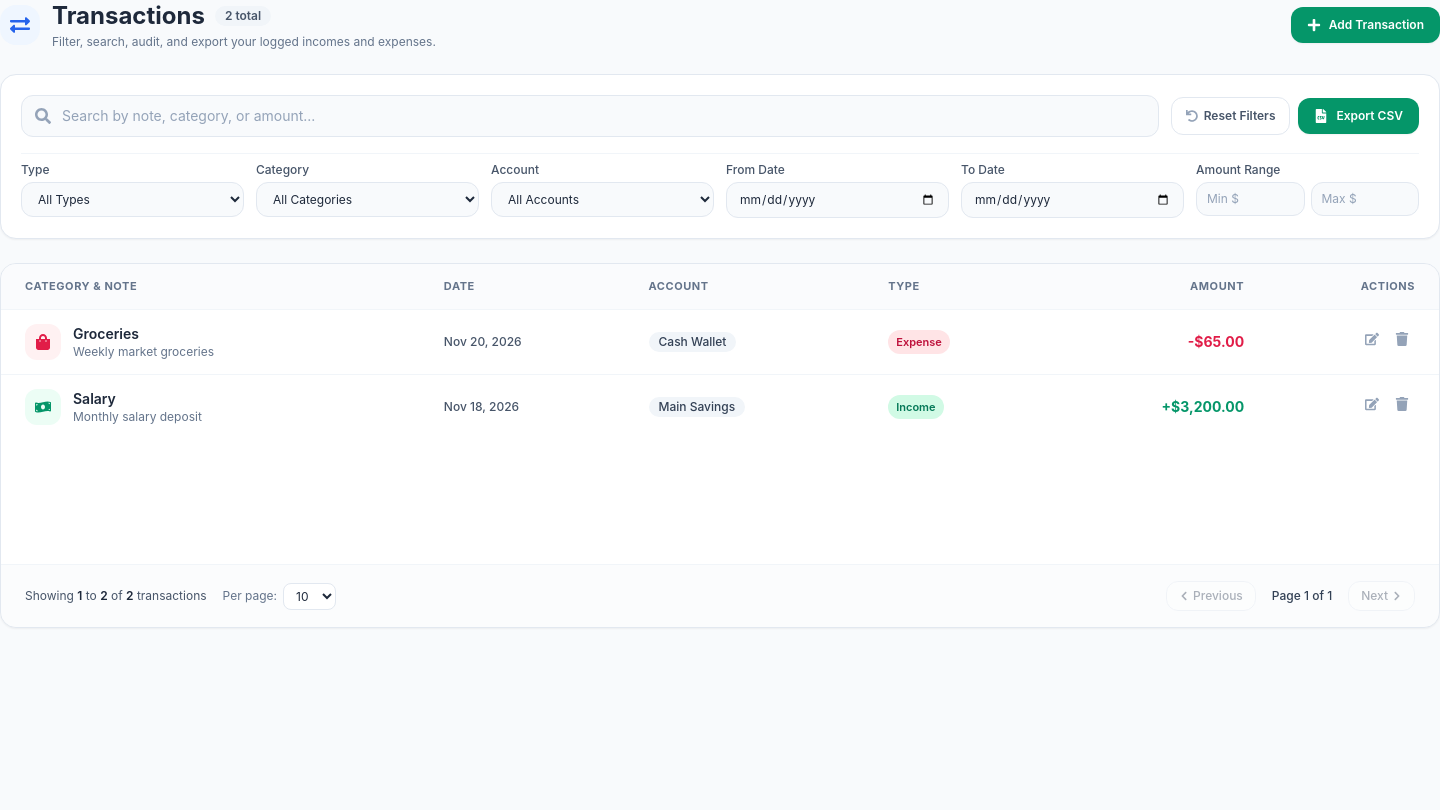
TransactionsPage Component › opens DeleteConfirmModal and deletes transaction upon user confirmation
Click the button named "delete transaction" at (1402, 339), box [1389,326,1415,352]
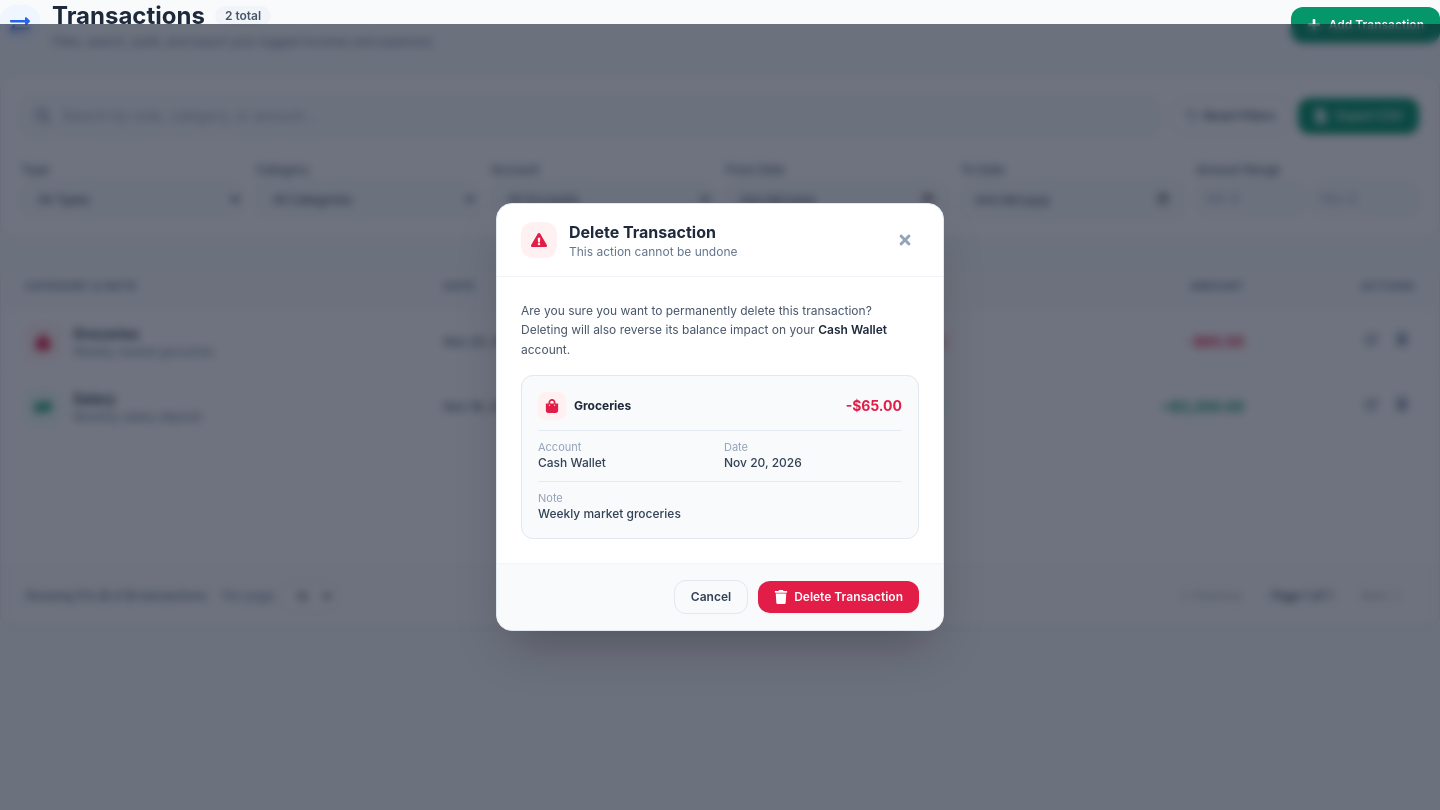
expect the heading "Delete Transaction" is shown: met, box [569,220,738,244]
expect the text "Weekly market groceries" is shown: met, box [538,506,681,521]
// Confirm deletion
Click the button "Delete Transaction" at (839, 597), box [758,581,919,613]
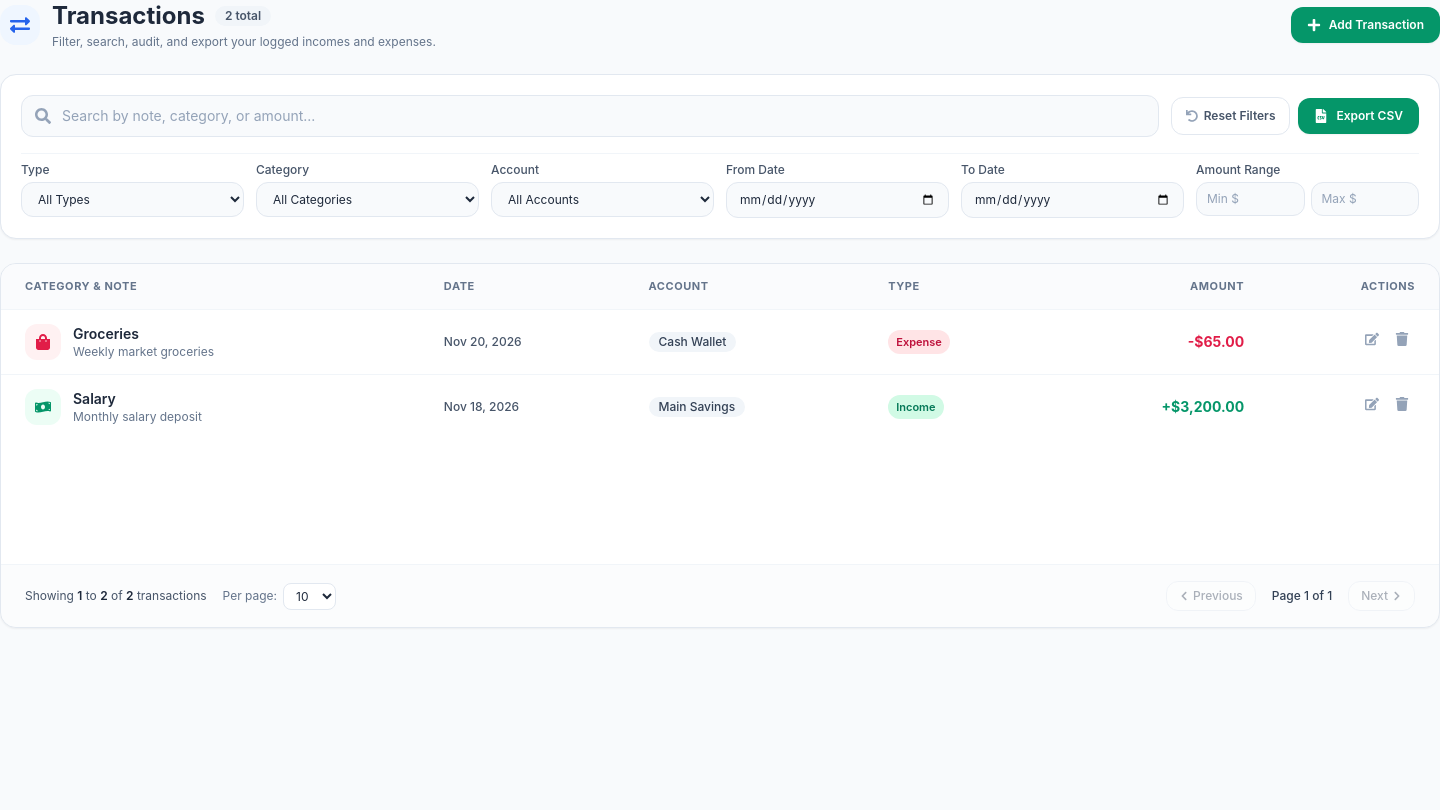
expect the dialog with test id "delete-confirm-modal" is gone: met
